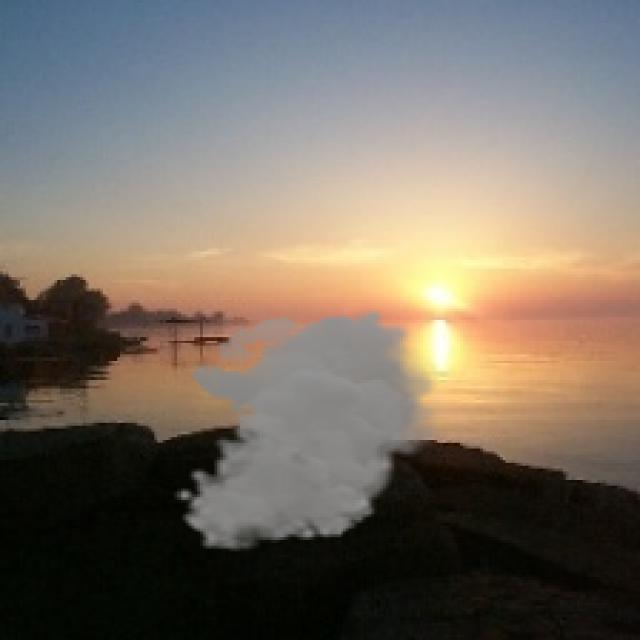smoke: (174, 308, 449, 552)
